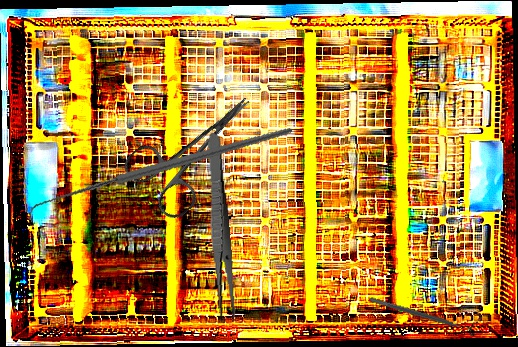Dressing Forceps: (202, 132, 238, 323)
Fixation Ring: (366, 290, 480, 339)
Hook Surgical: (28, 71, 293, 277)
Iris Scissors: (119, 72, 277, 224)
